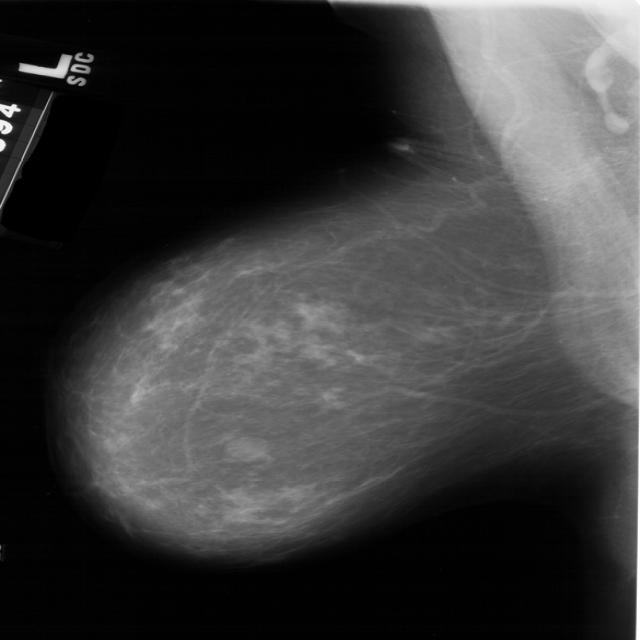tumour: (222, 434, 269, 459)
